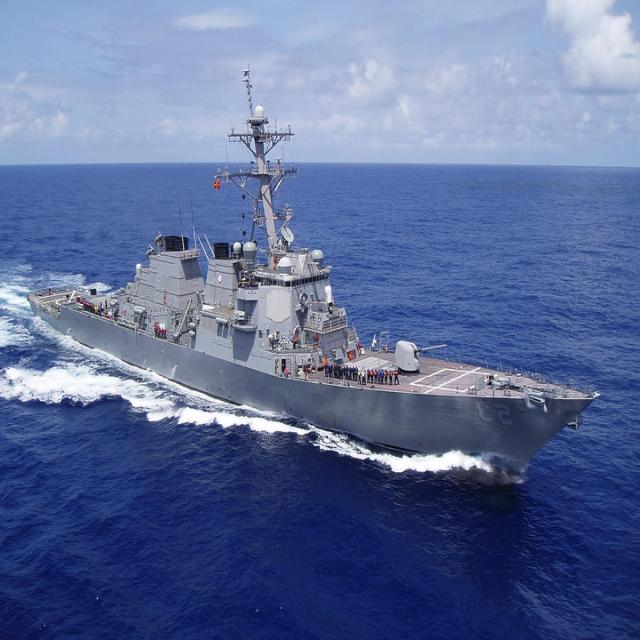navalvessels: (24, 58, 613, 477)
